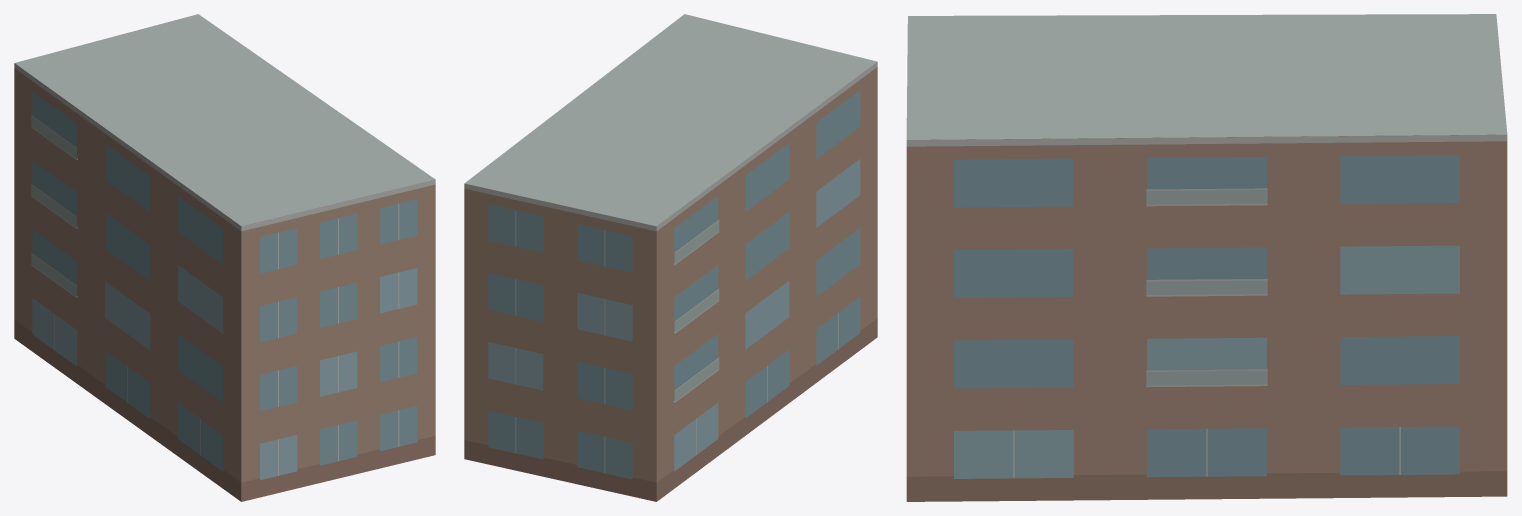
Rendered from survey-upis-33012623.glb.
3 renders of one model, left to right at view 1: azimuth 30°, elevation 25°; view 2: azimuth 150°, elevation 25°; view 3: azimuth 270°, elevation 25°, orthographic. The views are drawn at different scales.
Parts seen in each view (by area): view 1: survey-upis-33012623.tmp; view 2: survey-upis-33012623.tmp; view 3: survey-upis-33012623.tmp.
Boxes of the visible parts, x1,y1,x2,y2 form: survey-upis-33012623.tmp: (14, 14, 435, 501); survey-upis-33012623.tmp: (464, 14, 877, 501); survey-upis-33012623.tmp: (906, 14, 1507, 501).
Size of the model in its own units: 9.93 by 13.25 by 19.95.
